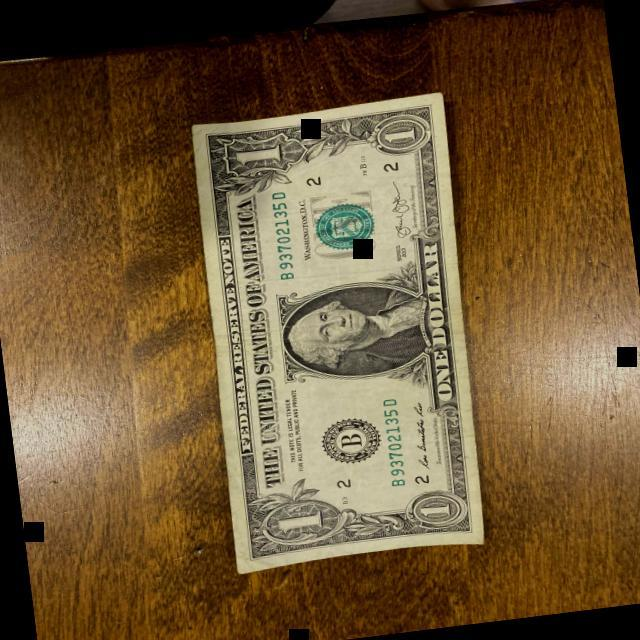one: (179, 92, 499, 576)
